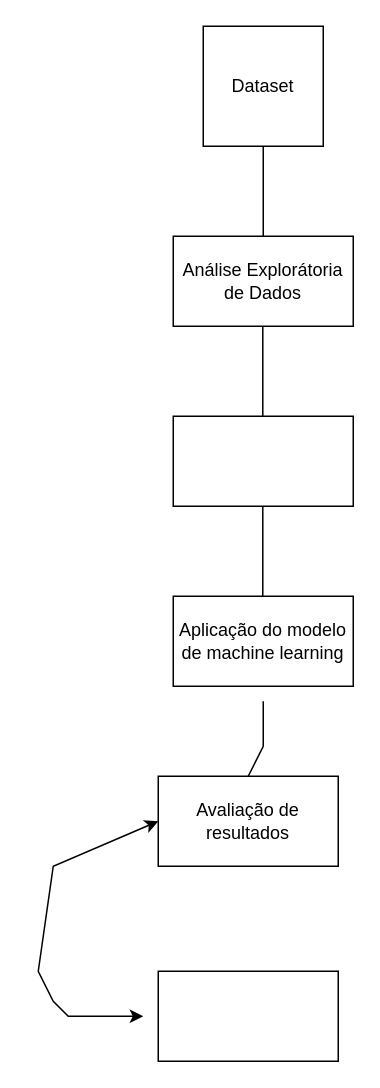
Image size: 380x1088. Some labels were removed from this diagram. Each missing label, with the centre of its shape:
"Ajustes do modelo" goes at (x=247, y=1015).
"Tratamento de dados" goes at (x=262, y=460).
